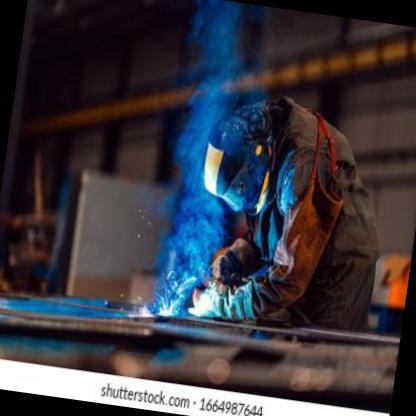Gloves: (187, 269, 263, 326), (206, 232, 261, 284)
